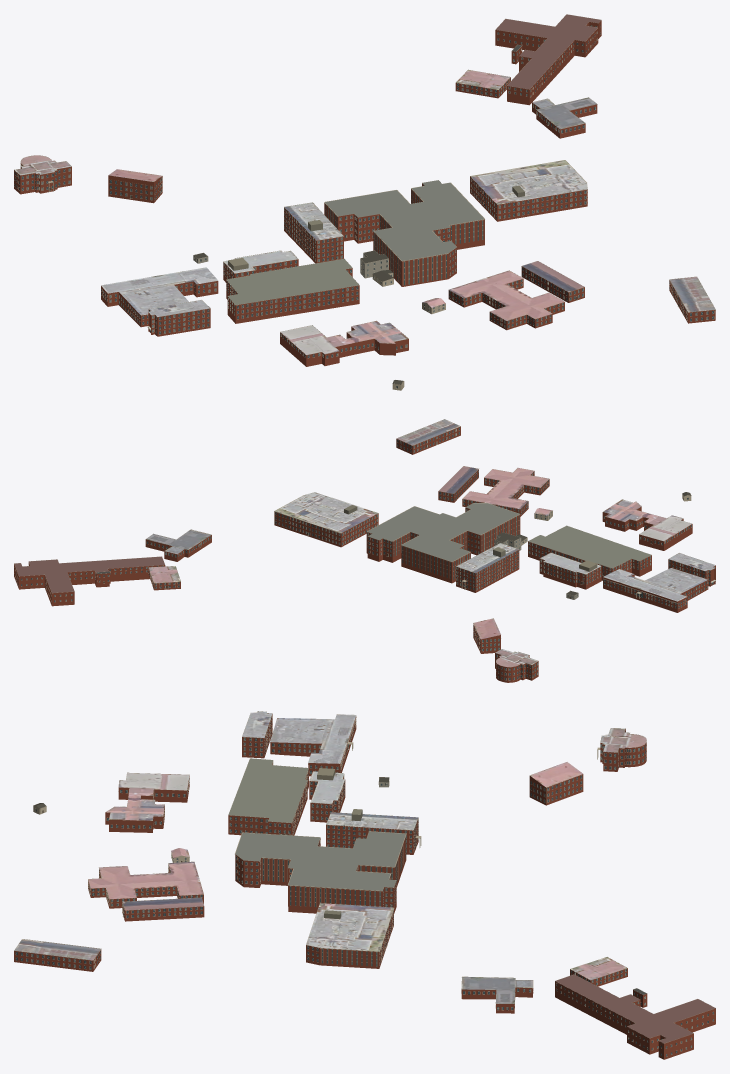
3 views of the same model, one above another, from view 1: azimuth 30°, elevation 25°; view 2: azimuth 150°, elevation 25°; view 3: azimuth 270°, elevation 25° (orthographic). The views are drawn at different scales.
Parts seen in each view (by area): view 1: -3_0_187869326_1, -3_0_318274786_12, -3_0_318273986_9; view 2: -3_0_187869326_1, -3_0_318274786_12, -3_0_318273986_9; view 3: -3_0_187869326_1, -3_0_318274786_12, -3_0_318273986_9.
Part boxes in pixels (x1=…): -3_0_187869326_1: x1=14, y1=14, x2=715, y2=388; -3_0_318274786_12: x1=194, y1=14, x2=600, y2=384; -3_0_318273986_9: x1=150, y1=190, x2=483, y2=331; -3_0_187869326_1: x1=14, y1=419, x2=715, y2=682; -3_0_318274786_12: x1=14, y1=492, x2=690, y2=595; -3_0_318273986_9: x1=393, y1=516, x2=713, y2=597; -3_0_187869326_1: x1=14, y1=711, x2=715, y2=1059; -3_0_318274786_12: x1=34, y1=758, x2=715, y2=1043; -3_0_318273986_9: x1=263, y1=744, x2=406, y2=966.
Bounding box in the file's own units: 565 × 28.95 × 513.
16 materials, 1 textured.
